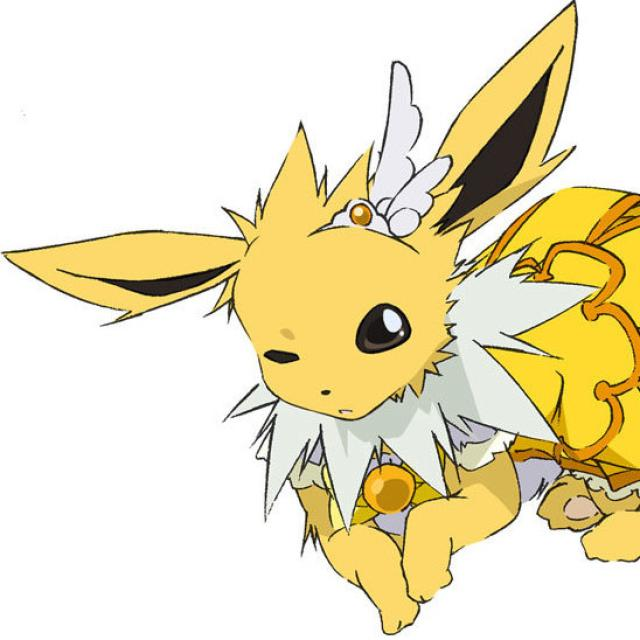Jolteon: (211, 124, 588, 605)
